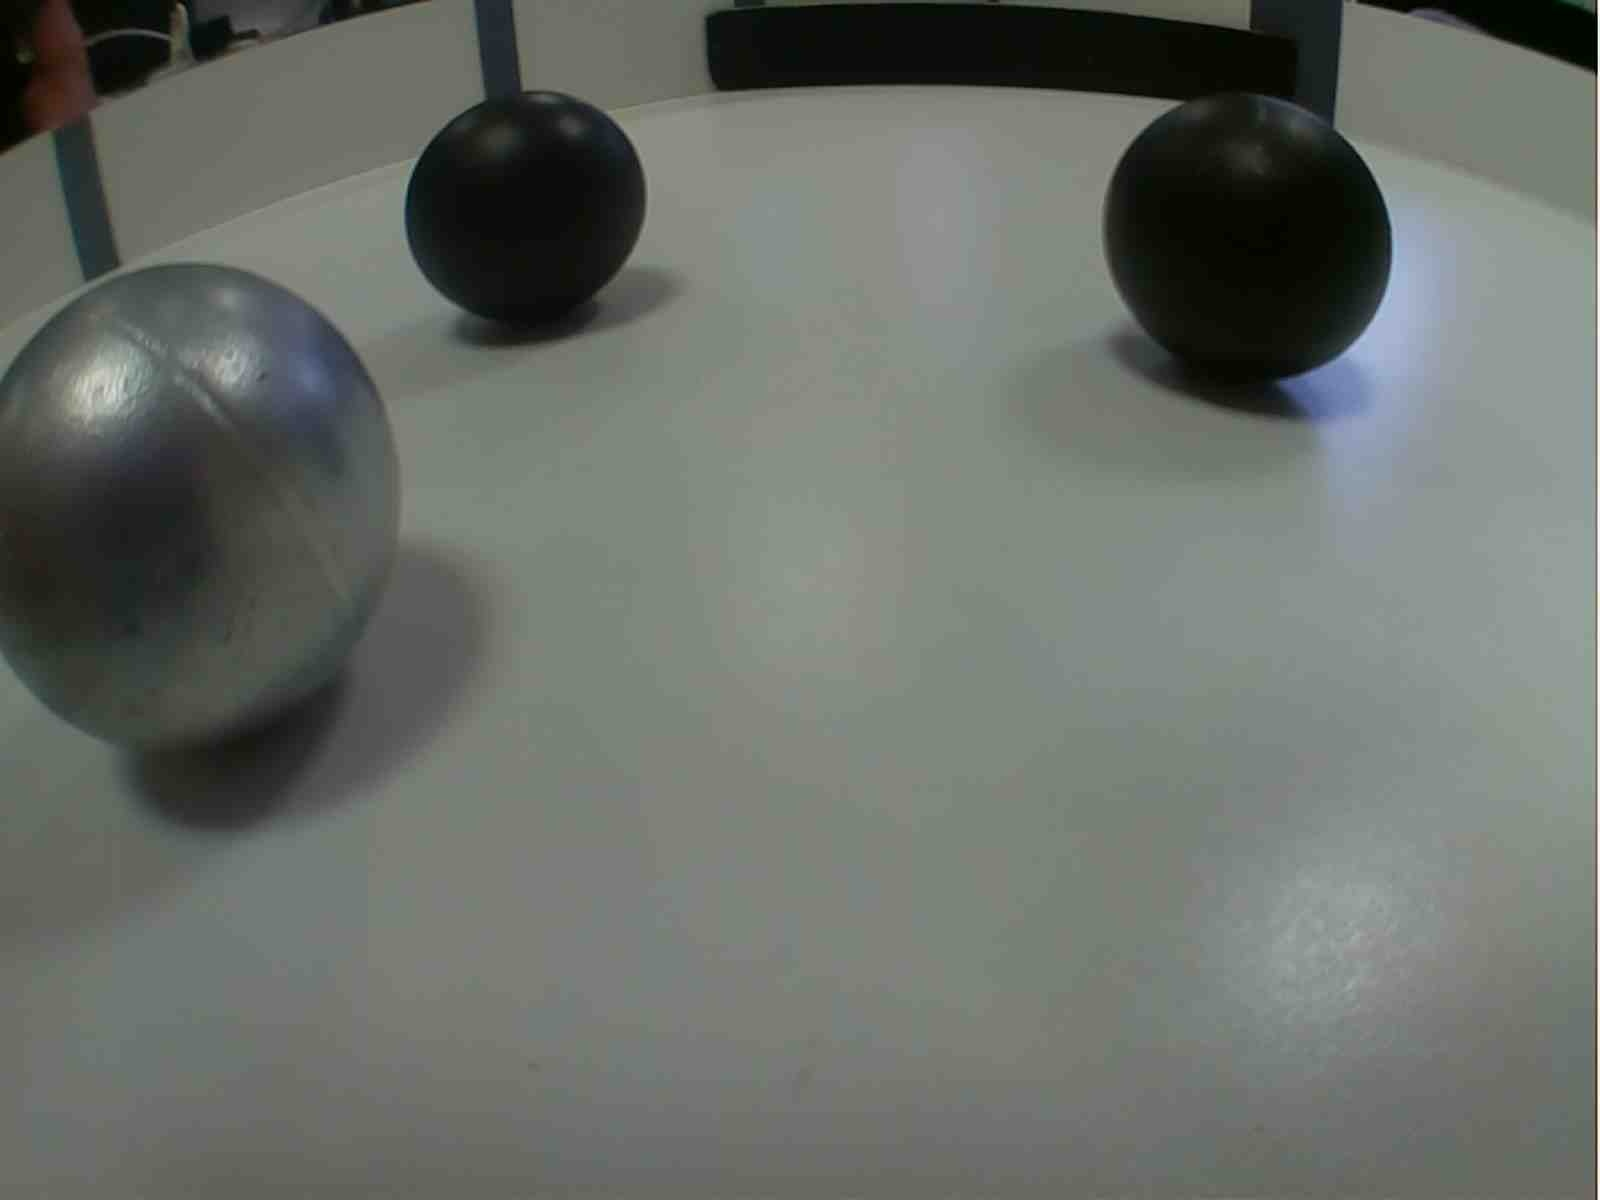bianca: (1, 262, 406, 755)
nera: (1094, 88, 1396, 391), (402, 83, 649, 330)
